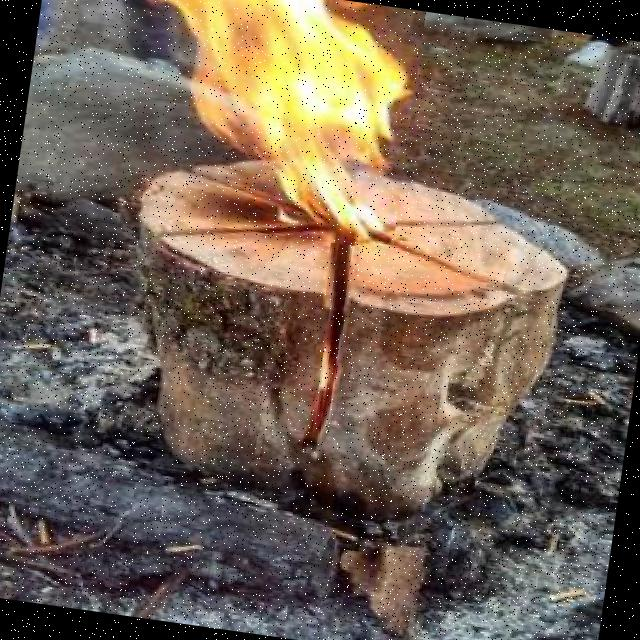fire: (52, 0, 426, 251)
